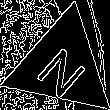N_NE: (31, 33, 93, 98)
